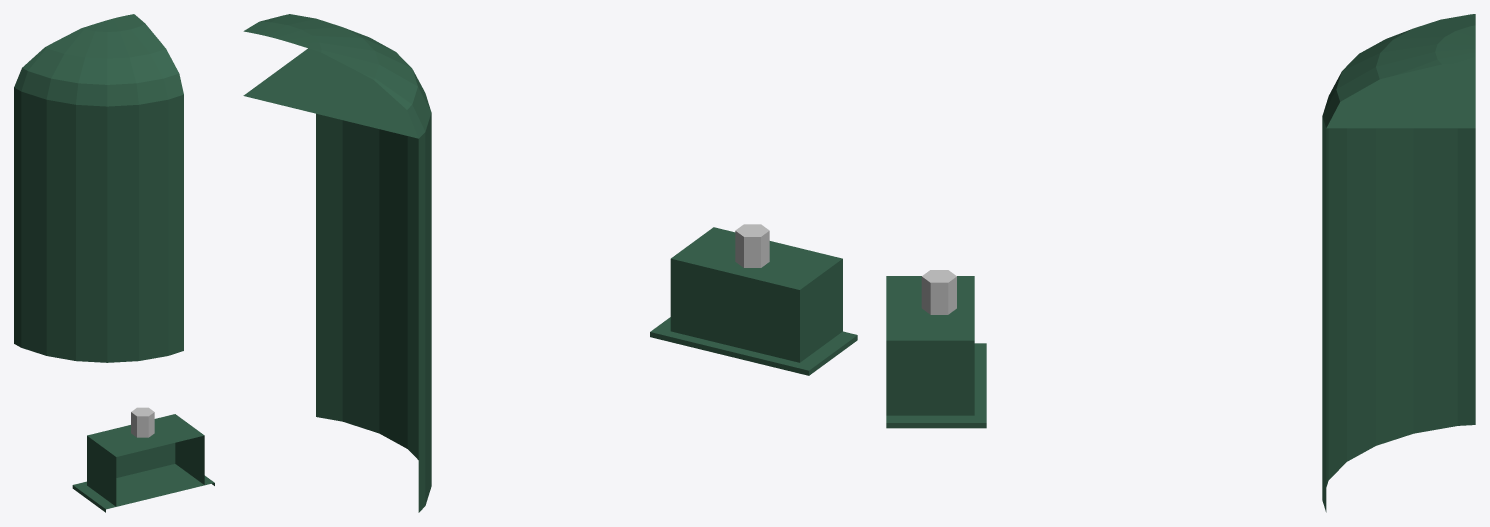
Rendered from cell_33.obj.
3 renders of one model, left to right at view 1: azimuth 30°, elevation 25°; view 2: azimuth 150°, elevation 25°; view 3: azimuth 270°, elevation 25°, orthographic. The views are drawn at different scales.
Size of the model in its own units: 0.66 by 0.8458 by 1.
